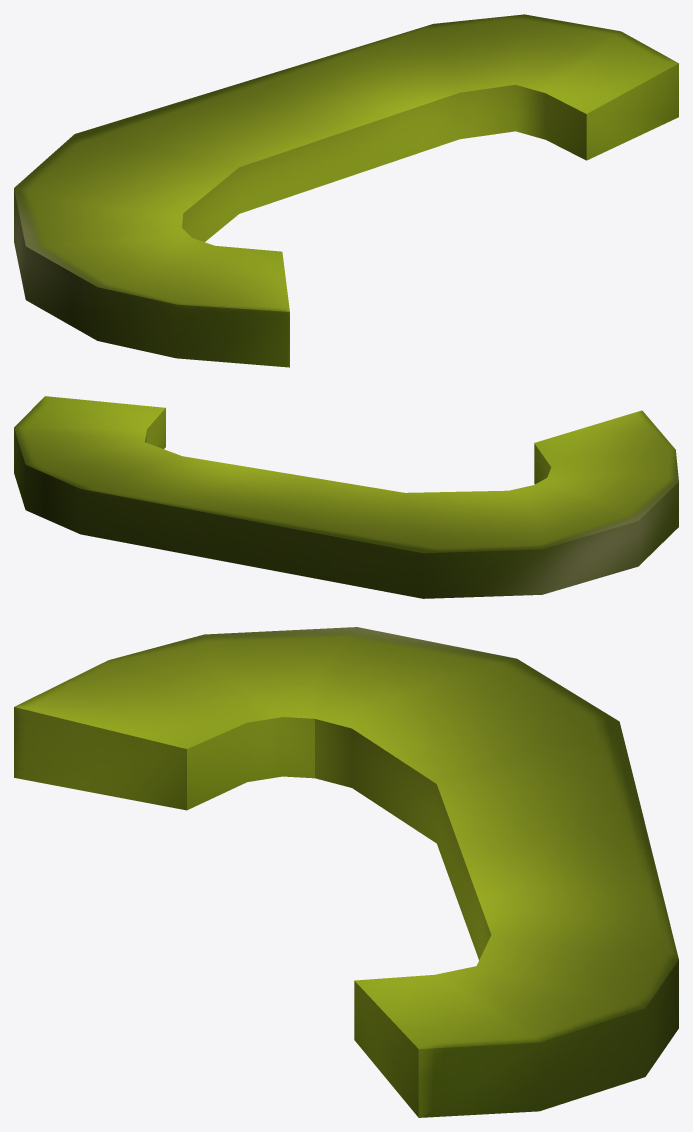
The model's file is Green_Pepper.fbx.
The picture shows the model from 3 angles, top to bottom: view 1: azimuth 30°, elevation 25°; view 2: azimuth 150°, elevation 25°; view 3: azimuth 270°, elevation 25°; orthographic projection. The views are drawn at different scales.
Visible parts, largest first — view 1: Green_Pepper; view 2: Green_Pepper; view 3: Green_Pepper.
Boxes of the visible parts, bbox=[...] form: Green_Pepper: bbox=[14, 14, 678, 367]; Green_Pepper: bbox=[14, 396, 678, 598]; Green_Pepper: bbox=[14, 627, 678, 1117].
Size of the model in its own units: 30.31 by 2.37 by 20.18.
